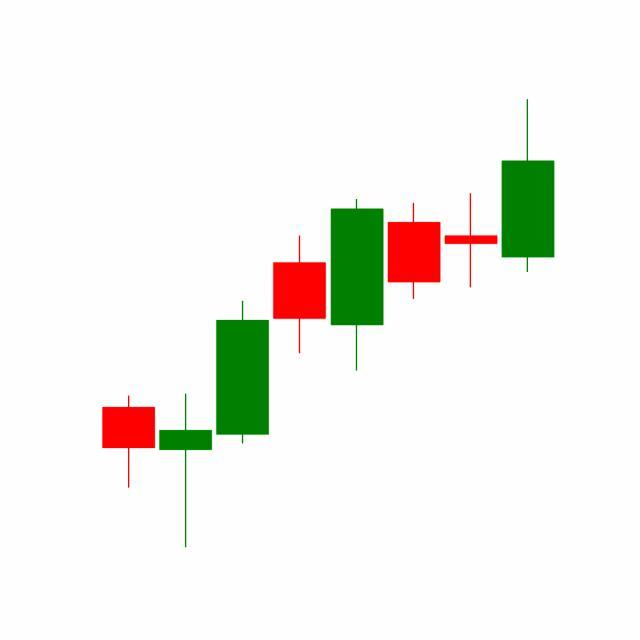Hikkake Pattern: (214, 191, 501, 447)
